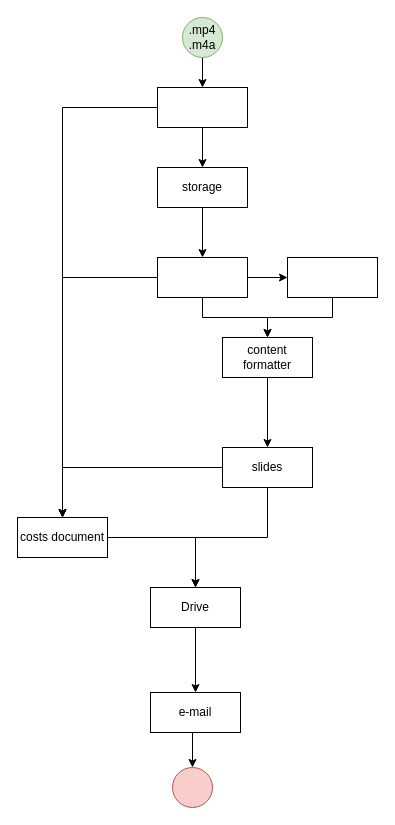
Some shapes in this 395 by 825 pixel diagram are drawn without their labels. Each missing label, with the centre of its shape:
"objetives" belongs at [332,277].
"resum" belongs at [202,277].
"transcription" belongs at [202,107].
